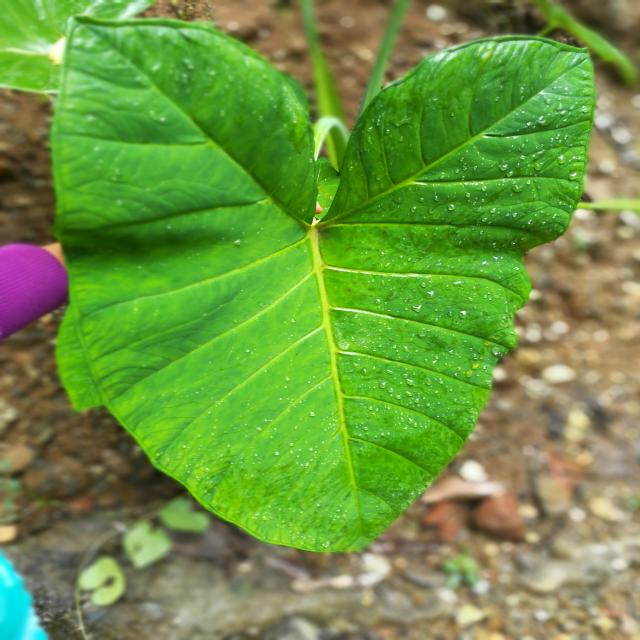taro: (8, 0, 638, 640)
